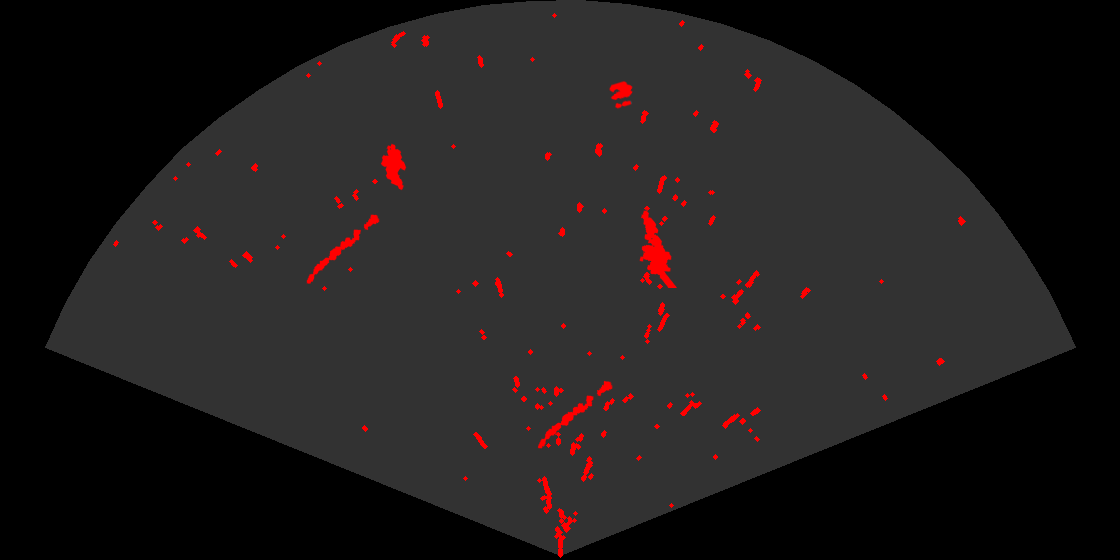AUV: (379, 142, 408, 192)
ball: (608, 79, 634, 110)
chain: (536, 379, 614, 450), (305, 213, 381, 285)
frogman: (638, 209, 678, 288)
